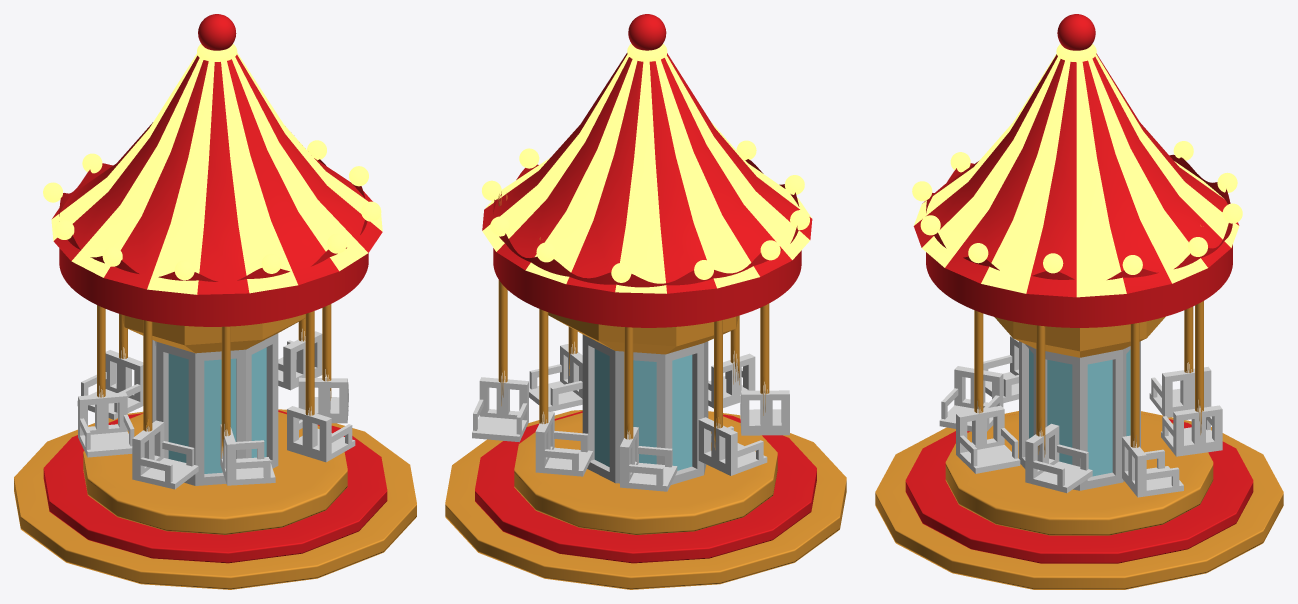
The model's file is carrusel.glb.
The picture shows the model from 3 angles, left to right: view 1: azimuth 30°, elevation 25°; view 2: azimuth 150°, elevation 25°; view 3: azimuth 270°, elevation 25°; orthographic projection.
Parts seen in each view (by area): view 1: Cylinder.005, Cylinder.003, Cylinder.002, Cylinder.001, Cylinder.004, Cylinder, Cube.003, Cube.002, Cube.005, Cube, Cube.004, Cube.006 (+6 smaller); view 2: Cylinder.005, Cylinder.003, Cylinder.002, Cylinder.004, Cylinder.001, Cylinder, Cube.007, Cube.002, Cube.001, Cube, Cube.006, Cube.003 (+6 smaller); view 3: Cylinder.005, Cylinder.002, Cylinder.001, Cylinder.003, Cylinder.004, Cylinder, Cube.005, Cube.006, Cube.001, Cube.007, Cube.004, Cube (+6 smaller).
Boxes of the visible parts, box(x1,y1,x2,y2) form: Cylinder.005: box(51, 14, 382, 294); Cylinder.003: box(122, 314, 305, 485); Cylinder.002: box(14, 409, 416, 589); Cylinder.001: box(43, 410, 387, 563); Cylinder.004: box(43, 140, 381, 326); Cylinder: box(83, 412, 347, 534); Cube.003: box(132, 420, 198, 489); Cube.002: box(78, 392, 134, 457); Cube.005: box(287, 406, 355, 462); Cube: box(77, 350, 143, 419); Cube.004: box(220, 424, 275, 485); Cube.006: box(298, 377, 348, 423); Cylinder.005: box(482, 14, 812, 293); Cylinder.003: box(548, 312, 738, 484); Cylinder.002: box(445, 410, 846, 589); Cylinder.004: box(482, 140, 809, 327); Cylinder.001: box(475, 411, 816, 563); Cylinder: box(514, 411, 777, 534); Cube.007: box(472, 377, 528, 442); Cube.002: box(698, 417, 767, 475); Cube.001: box(535, 411, 592, 476); Cube: box(620, 427, 677, 491); Cube.006: box(529, 344, 582, 411); Cube.003: box(740, 390, 789, 435); Cylinder.005: box(913, 14, 1239, 297); Cylinder.002: box(875, 411, 1283, 589); Cylinder.001: box(905, 419, 1253, 563); Cylinder.003: box(994, 316, 1165, 490); Cylinder.004: box(912, 141, 1242, 327); Cylinder: box(945, 413, 1213, 535); Cube.005: box(956, 405, 1020, 473); Cube.006: box(1025, 423, 1092, 493); Cube.001: box(1161, 405, 1222, 456); Cube.007: box(1122, 435, 1183, 497); Cube.004: box(939, 366, 1003, 431); Cube: box(1149, 366, 1211, 417).
Size of the model in its own units: 39.41 by 53.56 by 40.42.
